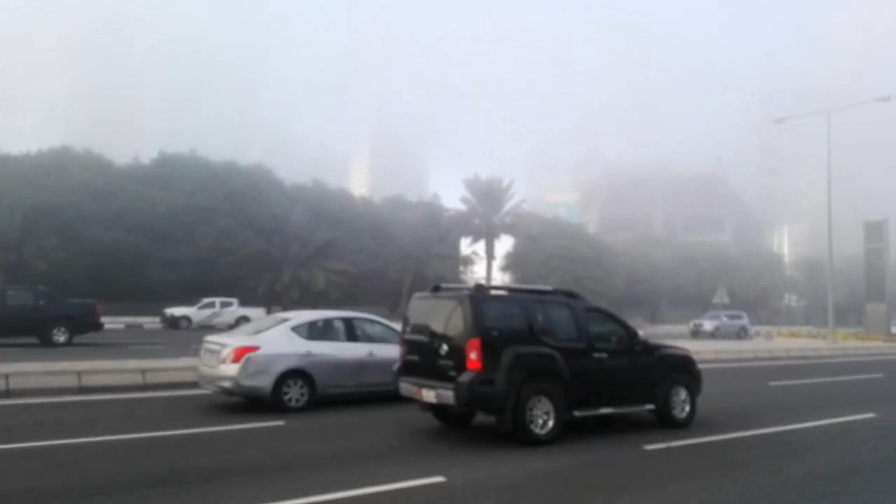car: (389, 282, 703, 450), (198, 307, 451, 411), (1, 282, 108, 351), (159, 294, 269, 332), (688, 307, 754, 341)
